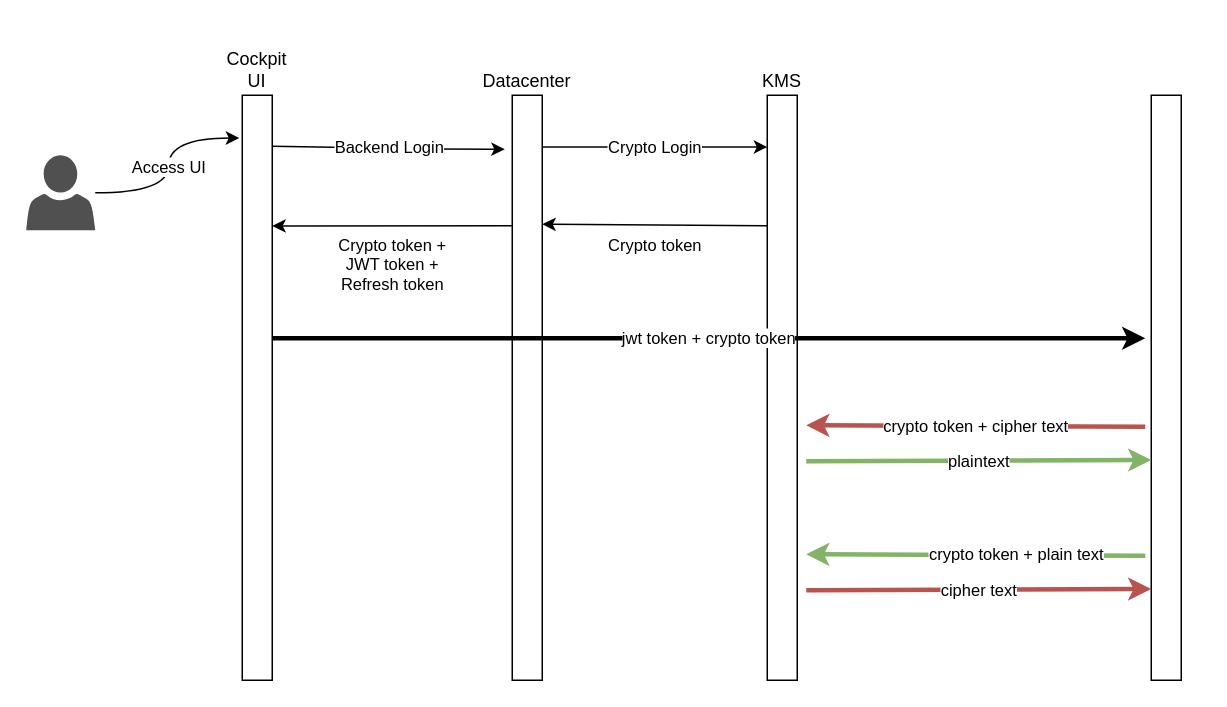
Some shapes in this 1227 by 707 pixel diagram are drawn without their labels. Each missing label, with the centre of its shape:
"Cockpit Backend Module" belongs at point (1165, 387).
"User" belongs at point (60, 192).
